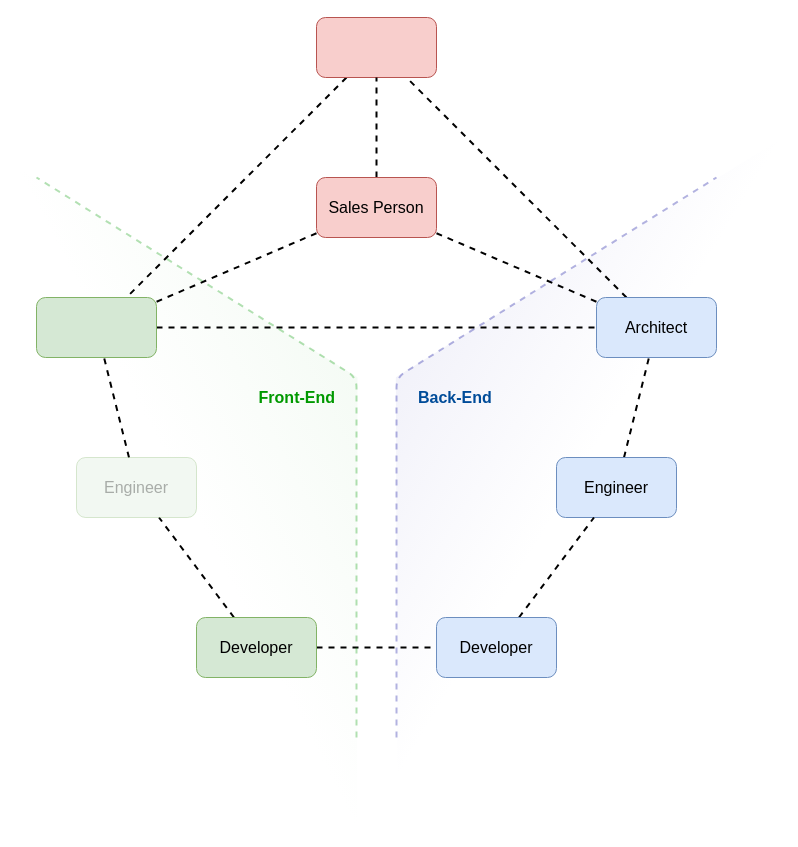
Some shapes in this 798 by 847 pixel diagram are drawn without their labels. The shapes that lost their labels are listed below. From the top down, each one's centre as x and y in pixels, then its label:
At [376,47]: "Client".
At [96,327]: "UI / UX Designer".
